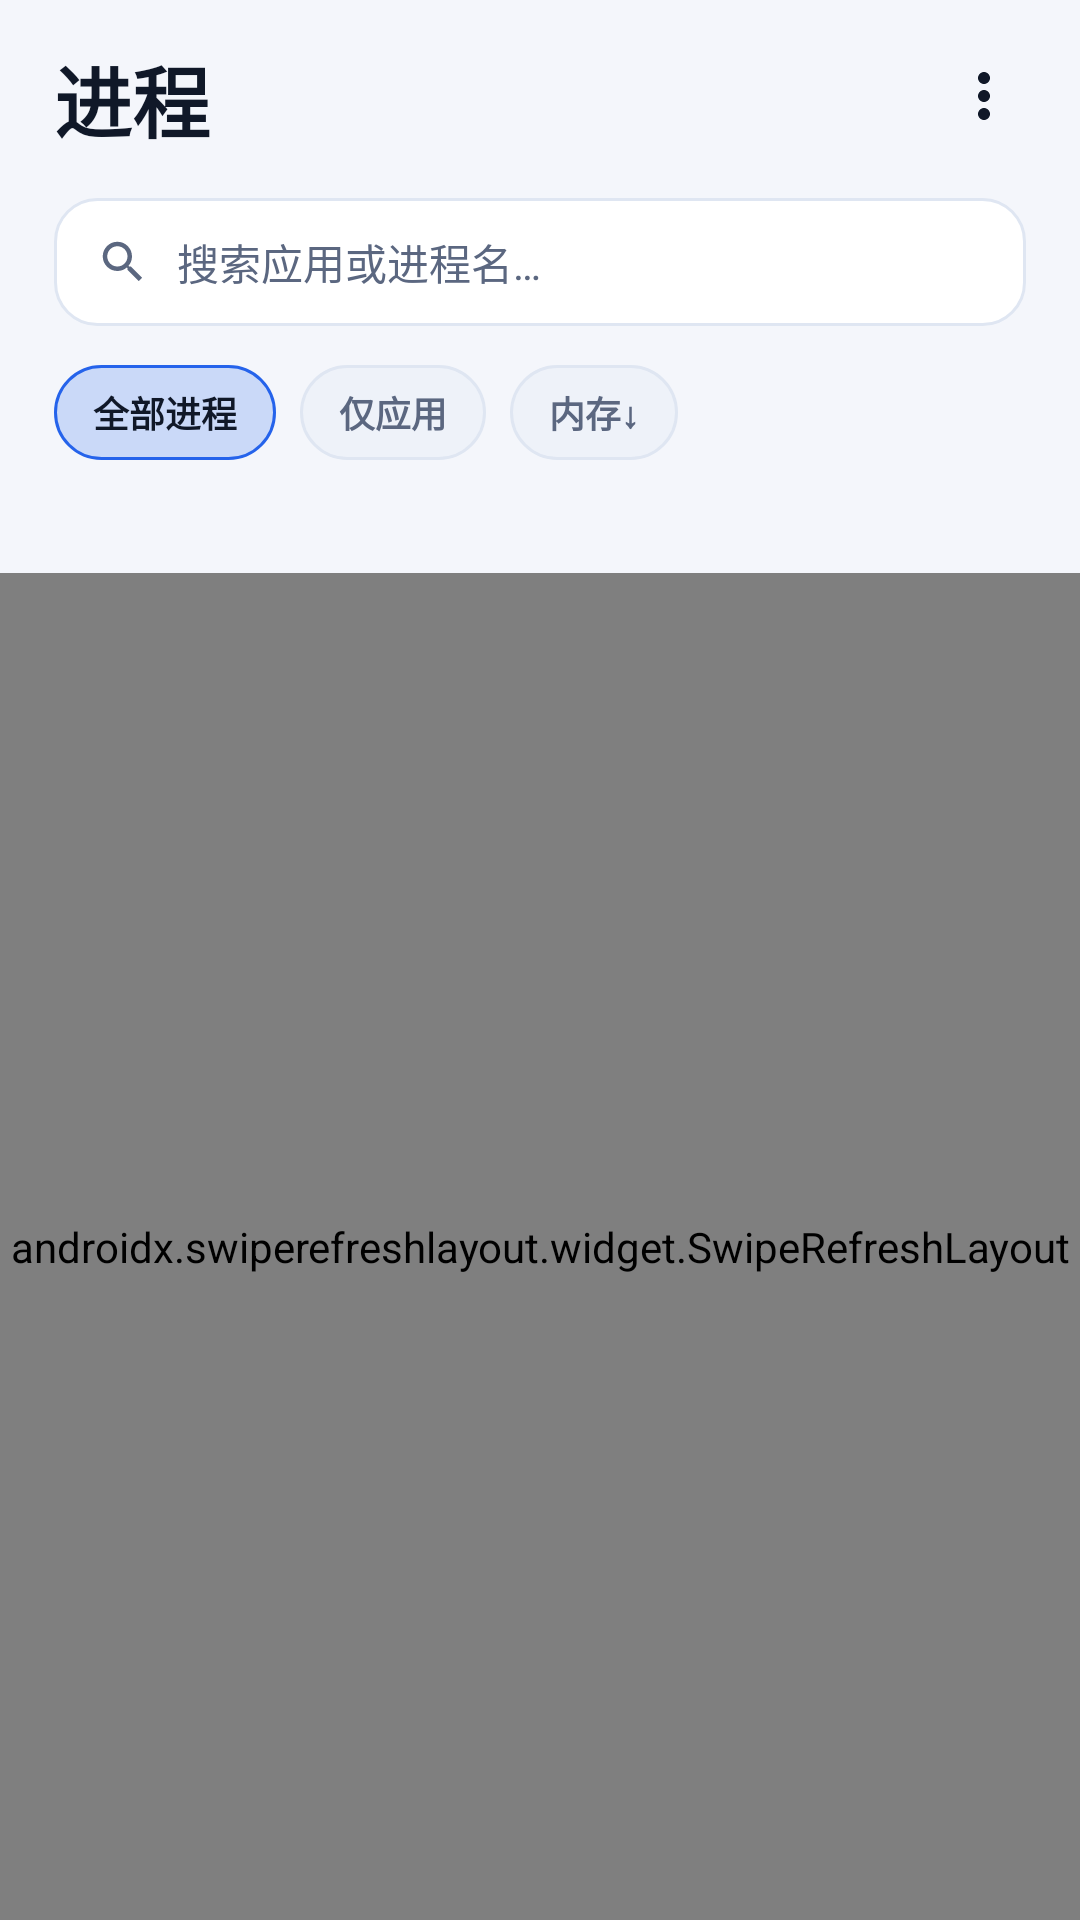

Where to tap for icons on this 1080*1920 app screen, as [x,y]:
更多: [984,96]
